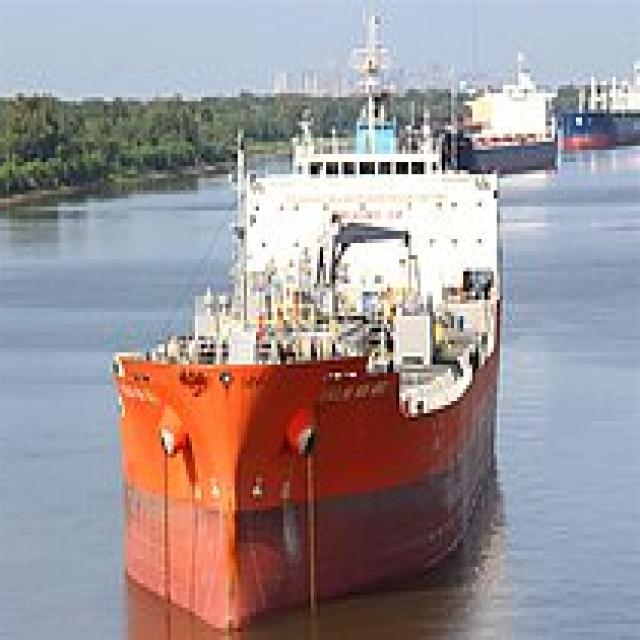Tanker: (116, 97, 509, 628), (451, 45, 561, 174), (561, 53, 640, 154)
